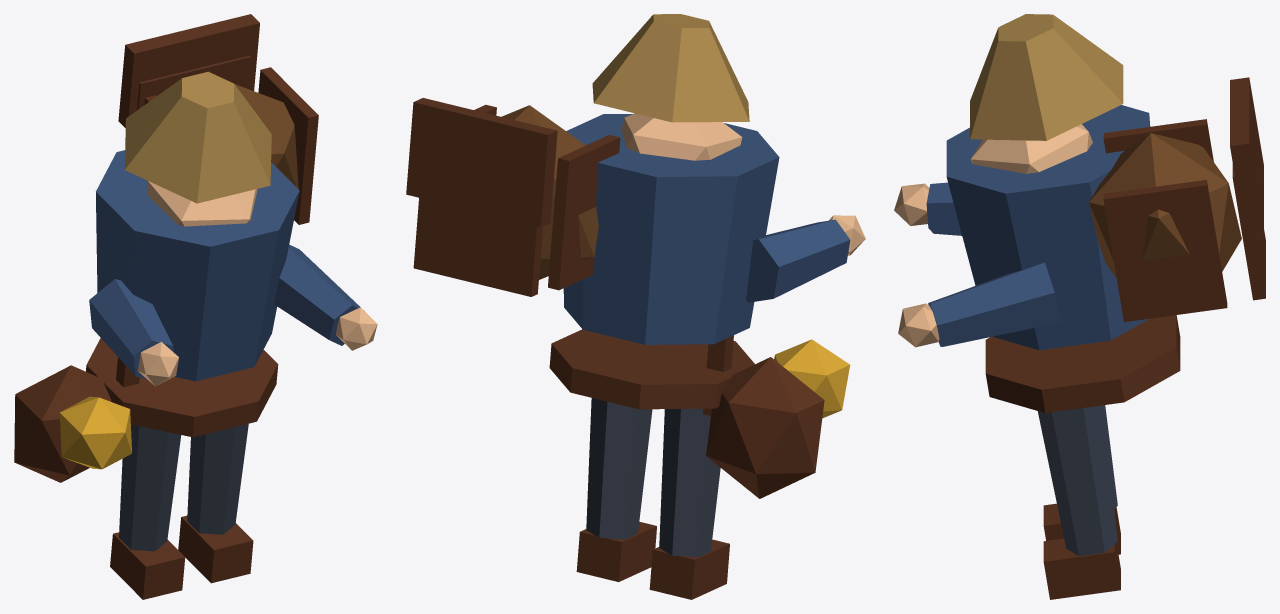
Rendered from npcpose_merchant_greet_04.glb.
3 views of the same model, side by side, from view 1: azimuth 30°, elevation 25°; view 2: azimuth 150°, elevation 25°; view 3: azimuth 270°, elevation 25° (orthographic). The views are drawn at different scales.
Visible parts, largest first — view 1: npcpose; view 2: npcpose; view 3: npcpose.
Part boxes in pixels (x1,y1,x2,y2): npcpose: [14, 14, 377, 599]; npcpose: [406, 14, 865, 599]; npcpose: [894, 14, 1265, 599].
Size of the model in its own units: 1.2 by 1.86 by 1.14.
